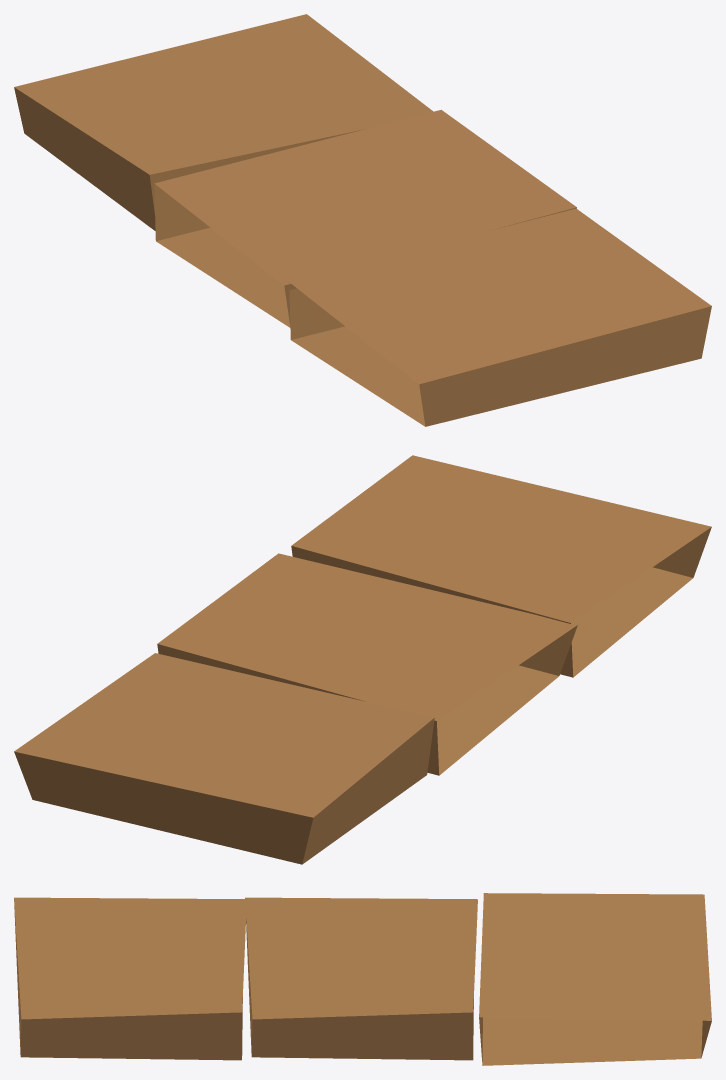
Rendered from Wood_Beam_Small_Length.fbx.
The picture shows the model from 3 angles, top to bottom: view 1: azimuth 30°, elevation 25°; view 2: azimuth 150°, elevation 25°; view 3: azimuth 270°, elevation 25°; orthographic projection. The views are drawn at different scales.
Visible parts, largest first — view 1: Wood_Beam_Small_Length; view 2: Wood_Beam_Small_Length; view 3: Wood_Beam_Small_Length.
Part boxes in pixels (x1,y1,x2,y2): Wood_Beam_Small_Length: [14, 14, 711, 426]; Wood_Beam_Small_Length: [14, 455, 711, 864]; Wood_Beam_Small_Length: [14, 893, 711, 1065].
Bounding box in the file's own units: 604 × 256 × 51.33.
